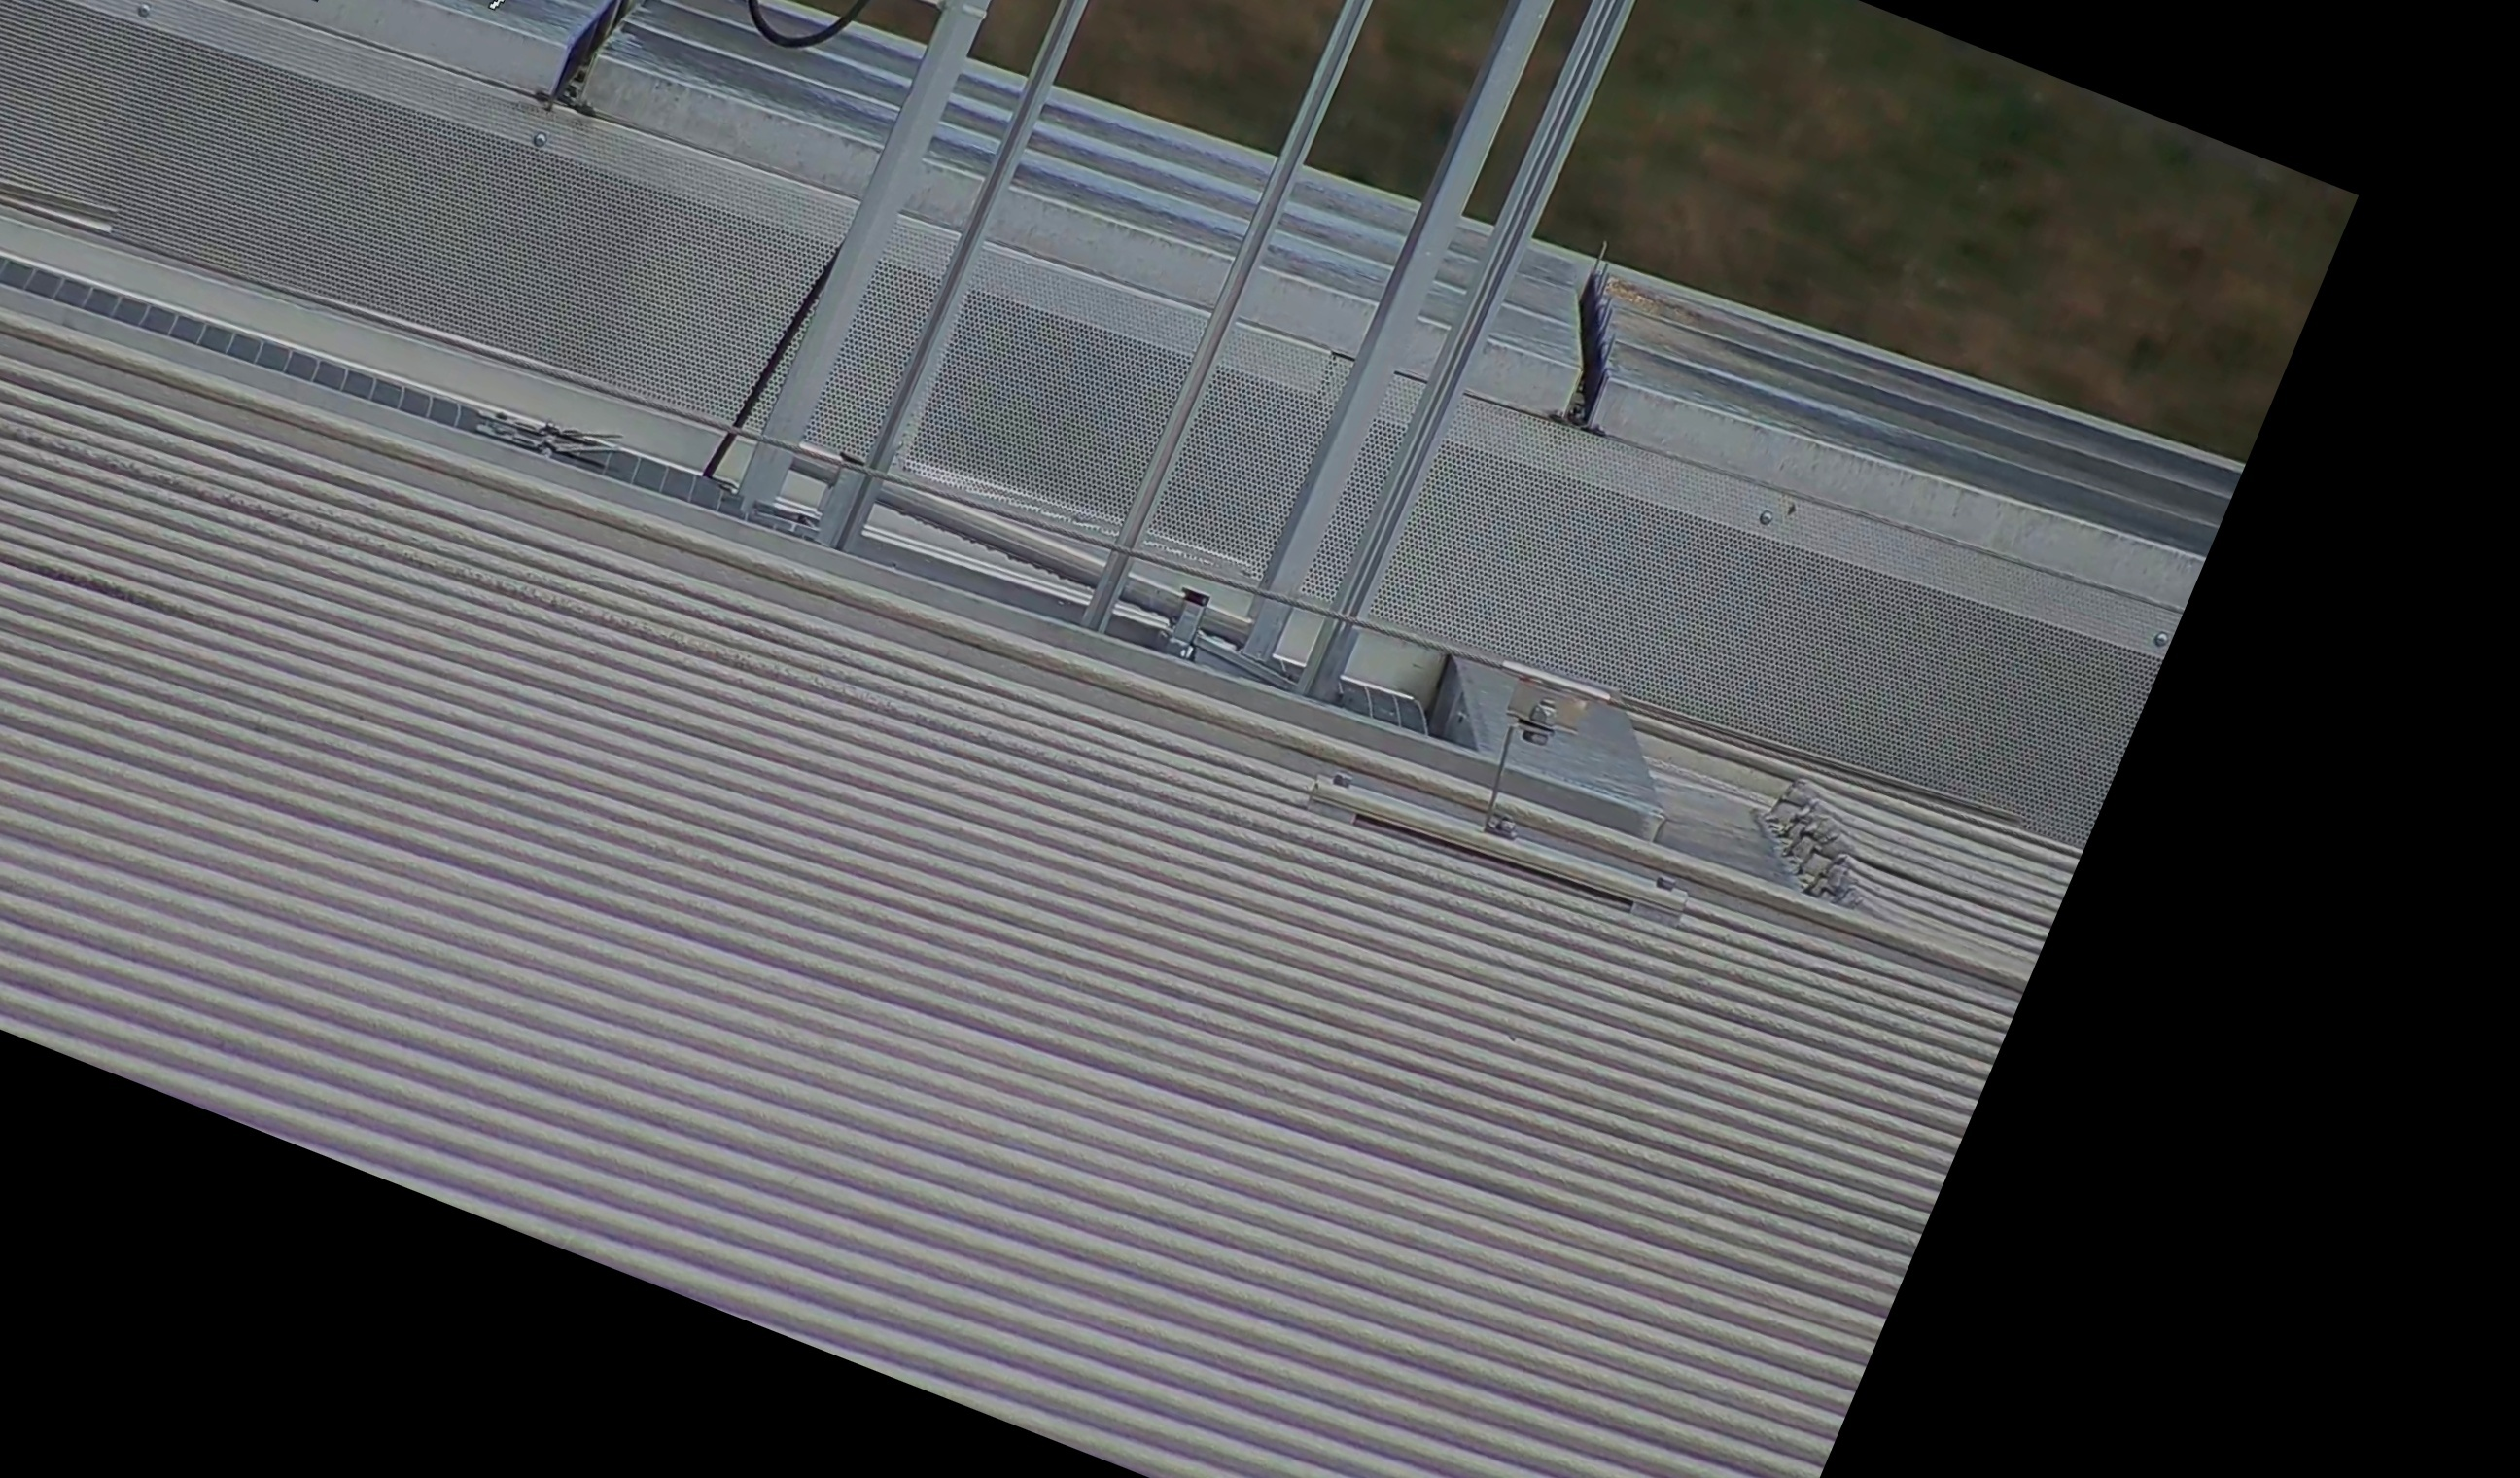Other: (1519, 234, 1688, 445)
